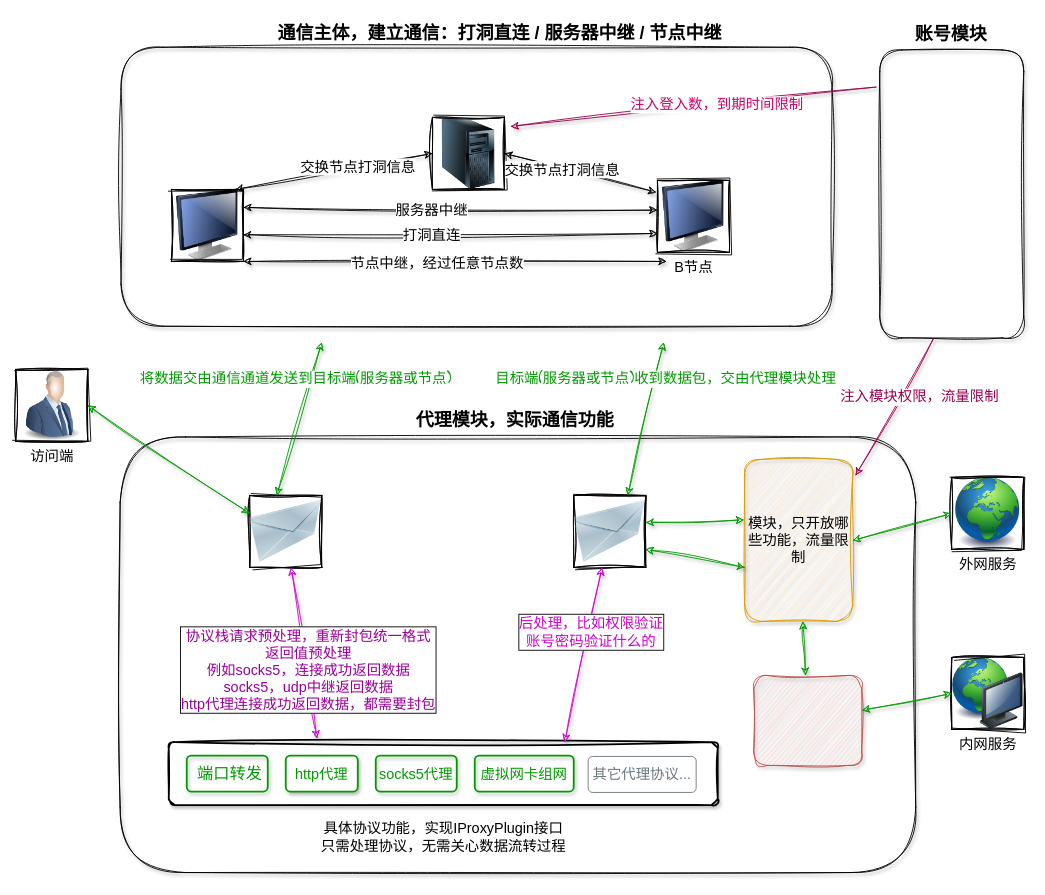
This 1045x895 diagram has some shape labels left out. Here are the shapes that lost their labels. From the top down, the centre of each, then its label:
At point (952, 194): "1，模块权限 2，流量限制 3，登入数限制 4，到期时间".
At point (207, 225): "A节点".
At point (285, 531): "来源端(服务器或节点)，Socket监听".
At point (609, 531): "目标端(服务器或节点)、Socket连接".
At point (808, 721): "防火墙，允许或者阻止哪些端口，哪些ip".
